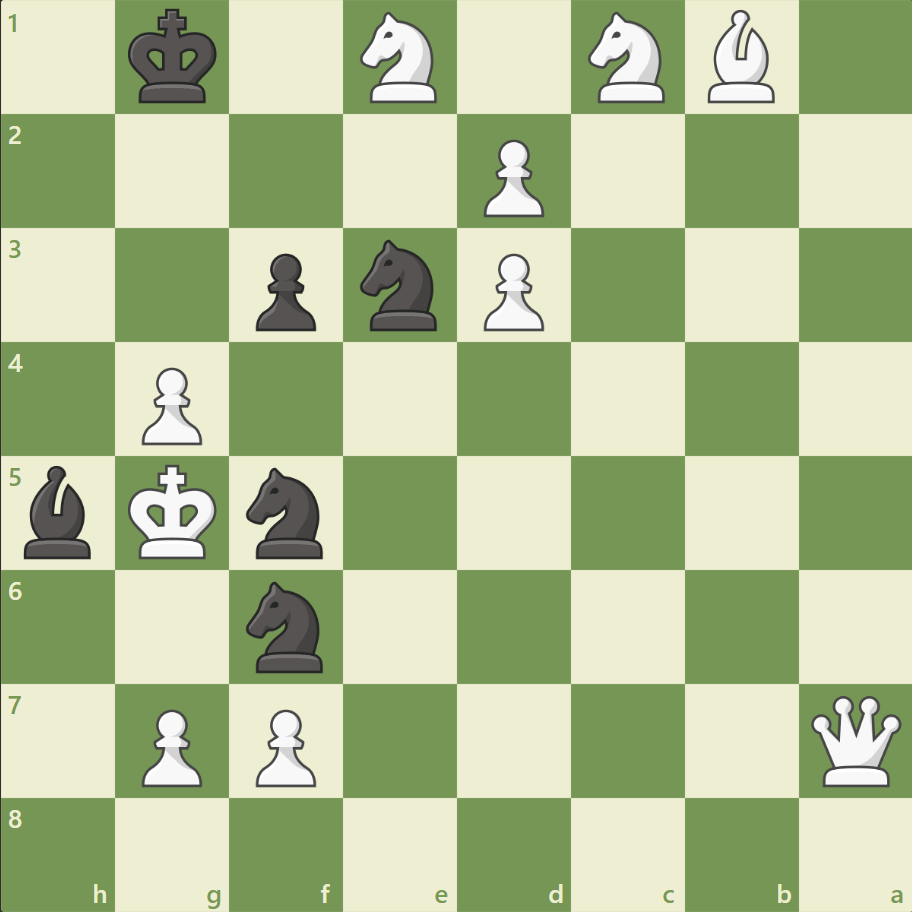B: (698, 6, 782, 109)
K: (124, 458, 224, 566)
N: (351, 7, 449, 110), (579, 7, 676, 110)
P: (247, 700, 322, 791), (133, 700, 208, 791), (133, 359, 208, 450), (474, 246, 549, 337), (474, 132, 549, 223)
Q: (805, 690, 904, 789)
b: (17, 460, 101, 563)
k: (124, 4, 224, 112)
n: (351, 234, 449, 337), (238, 461, 335, 564), (238, 575, 335, 677)
p: (247, 246, 322, 337)
